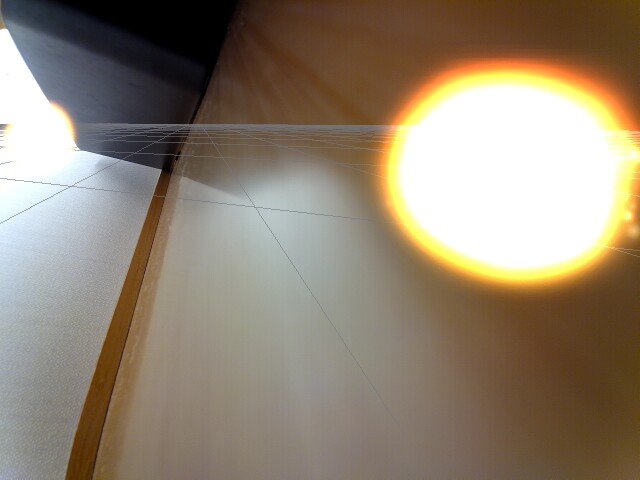firebig: (362, 46, 639, 286)
